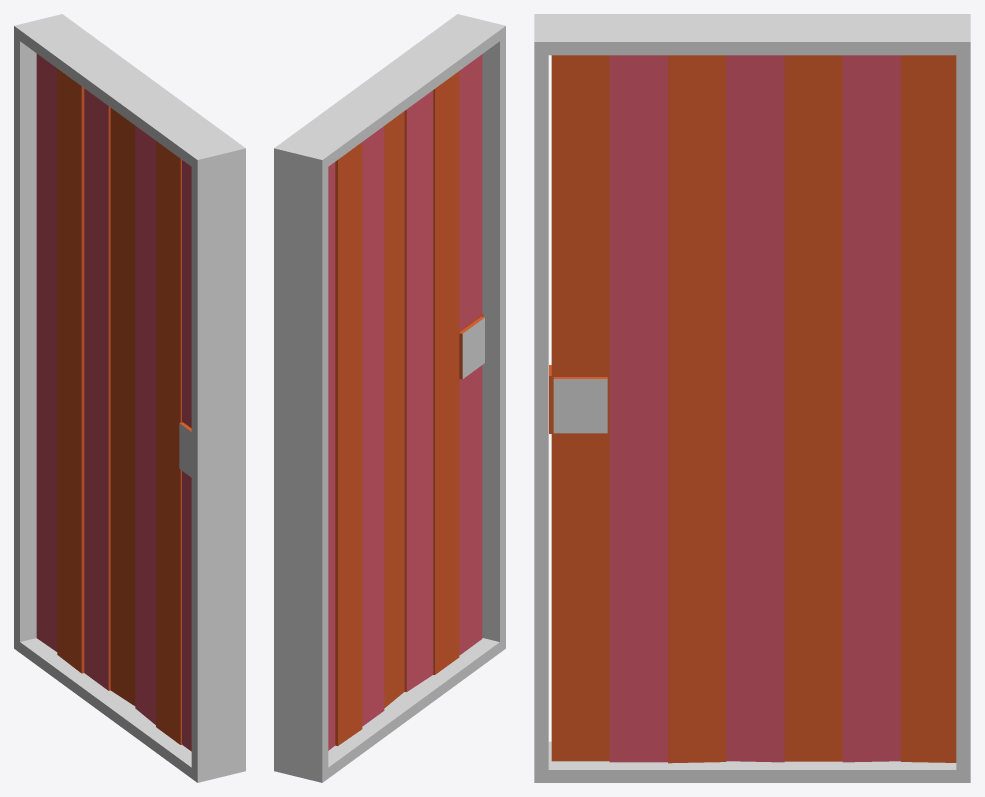
File: POrta.fbx
3 views of the same model, side by side, from view 1: azimuth 30°, elevation 25°; view 2: azimuth 150°, elevation 25°; view 3: azimuth 270°, elevation 25° (orthographic). The views are drawn at different scales.
Parts seen in each view (by area): view 1: Porta, Caixa Porta; view 2: Porta, Caixa Porta; view 3: Porta, Caixa Porta.
Boxes of the visible parts, x1,y1,x2,y2 form: Porta: (36,53,191,751); Caixa Porta: (14,14,245,782); Porta: (328,54,484,750); Caixa Porta: (274,14,505,782); Porta: (549,55,956,763); Caixa Porta: (534,14,970,782).
Size of the model in its own units: 33.56 by 413 by 220.
